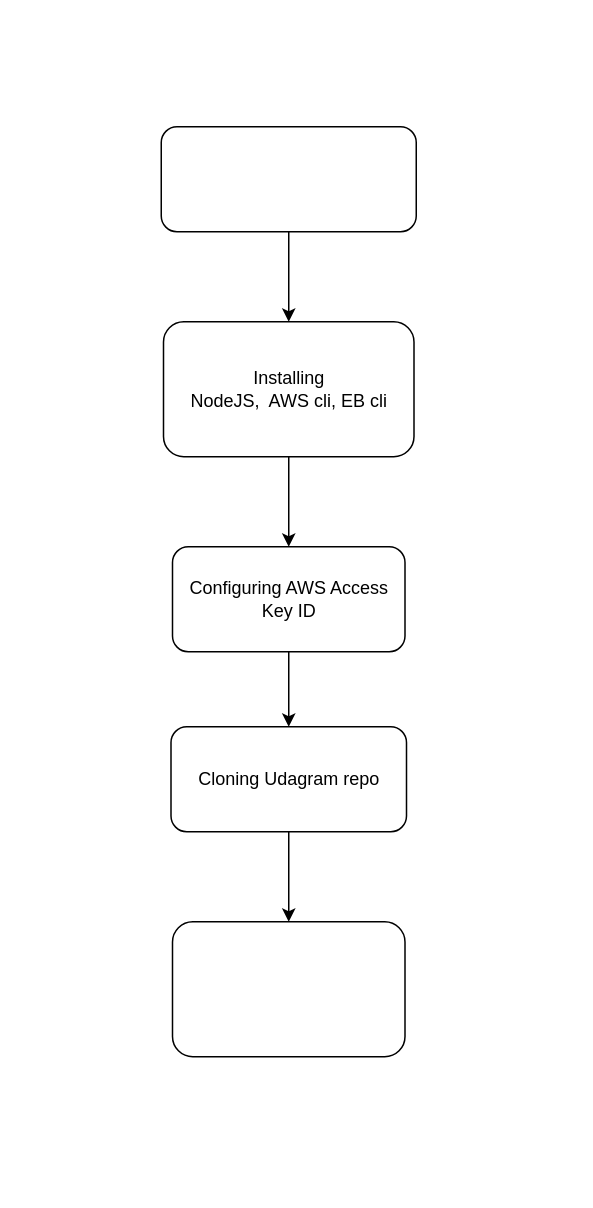
Image size: 593x1208. Some labels were removed from this diagram. Here are the shapes that lost their labels. From the top down, the centre of each, then its label:
At pixel 288 178: "Setting Enviroment".
At pixel 288 988: "Executing Frontend & Backend npm scripts (install, build, deploy)".
